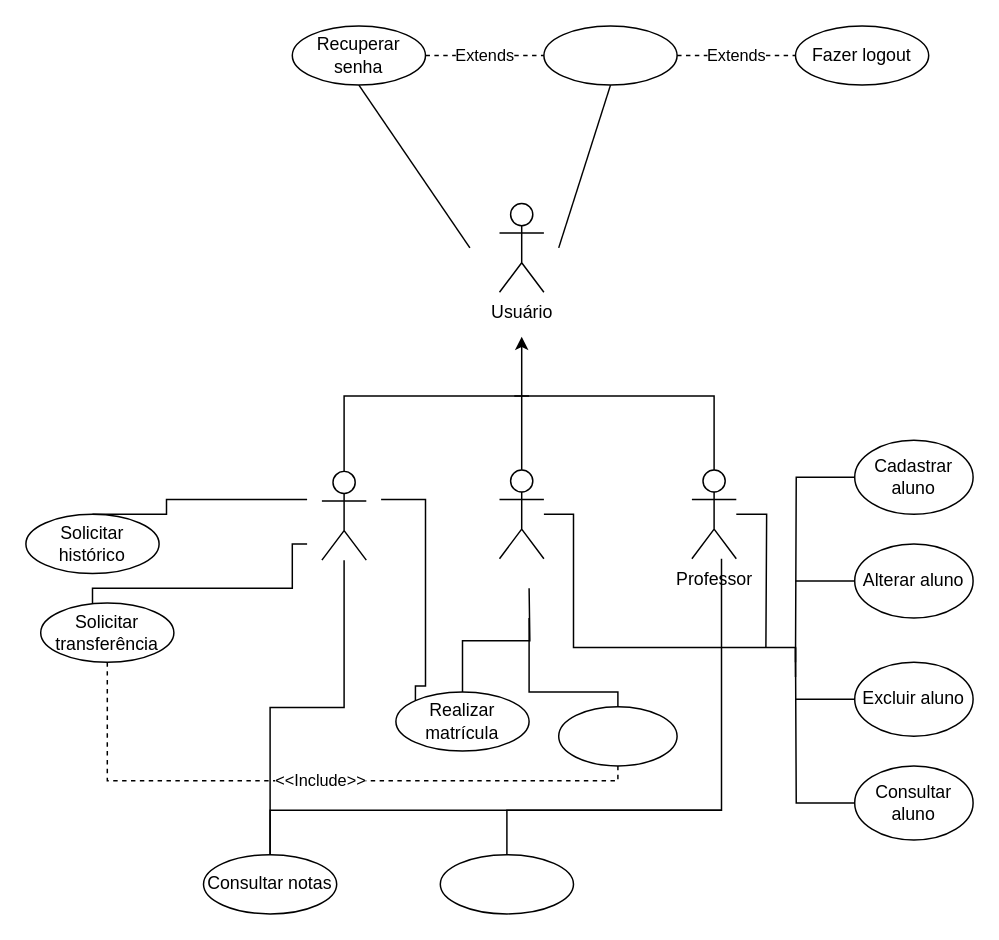
Image size: 999x940. Some labels were removed from this diagram. Each missing label, with the box of its shape:
Aluno: (320, 470, 366, 560)
Aprovar transferência: (557, 705, 677, 766)
Consultar frequência: (439, 853, 574, 914)
Fazer Login: (542, 24, 677, 85)
Secretaria: (498, 468, 544, 559)
